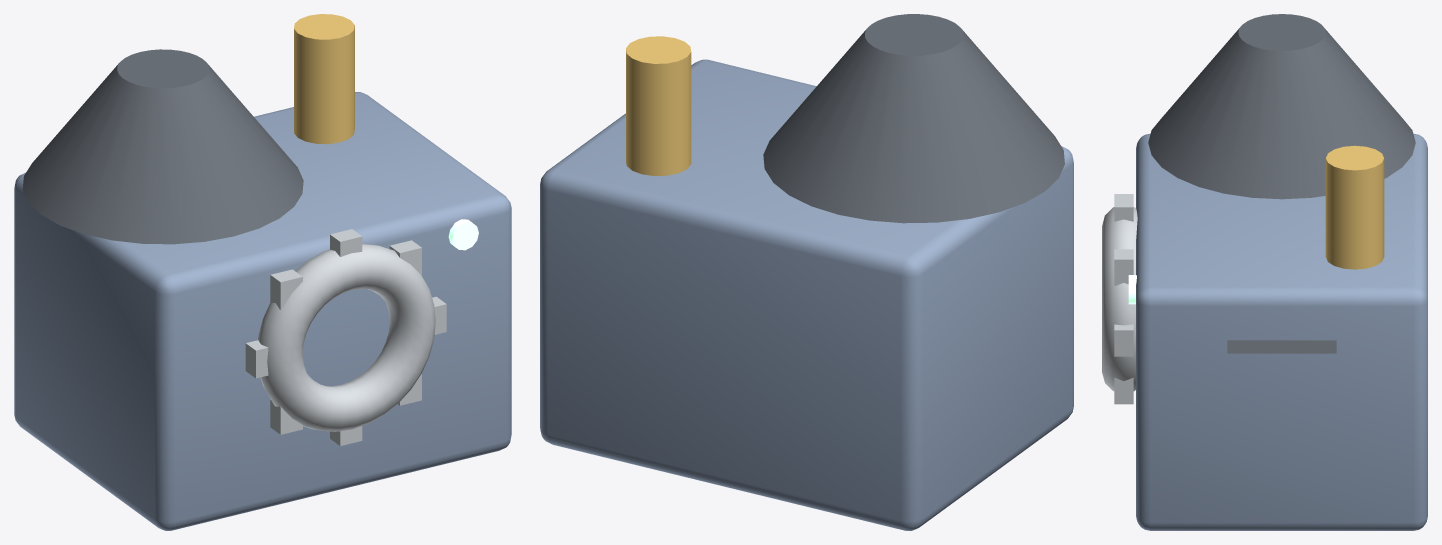
Rendered from factory.glb.
The picture shows the model from 3 angles, left to right: view 1: azimuth 30°, elevation 25°; view 2: azimuth 150°, elevation 25°; view 3: azimuth 270°, elevation 25°; orthographic projection. The views are drawn at different scales.
Visible parts, largest first — view 1: factory; view 2: factory; view 3: factory.
Boxes of the visible parts, <box> form: factory: <box>14,14,511,530</box>; factory: <box>540,14,1073,530</box>; factory: <box>1102,14,1427,530</box>.
Bounding box in the file's own units: 1.82 × 1.7 × 1.34.
